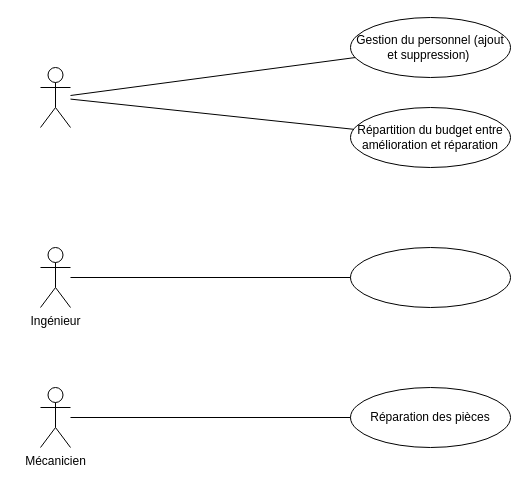
The diagram is 528 pixels wide and 486 high, and some of its shapes have lost their labels. The centre of each missing label's shape, as x and y in pixels:
"Amélioration des pièces" goes at pixel 430 277.
"Responssable" goes at pixel 55 97.
